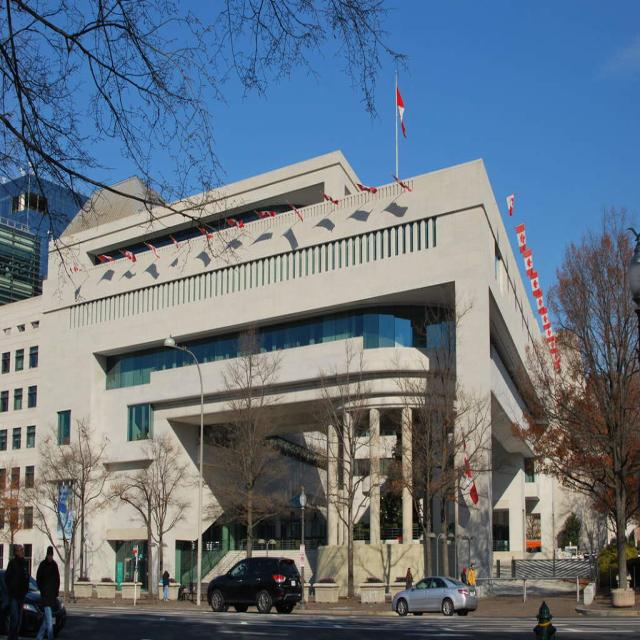car: (193, 559, 314, 631), (390, 570, 476, 613), (0, 569, 59, 629)
